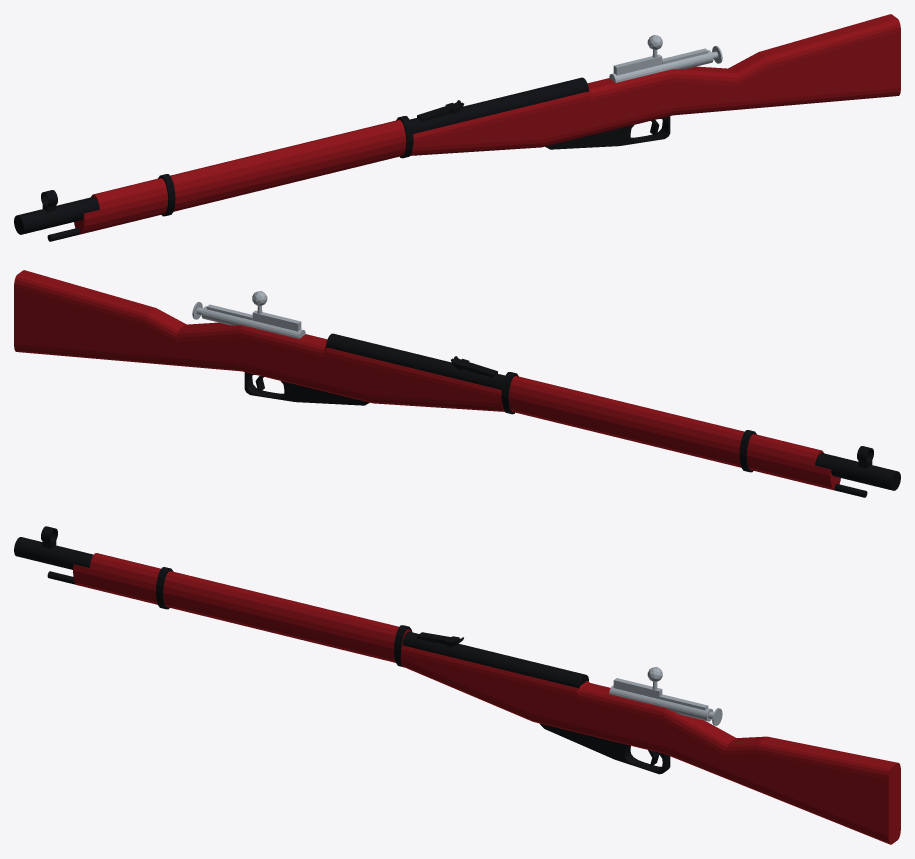
File: mosin-nagant0017.obj
The picture shows the model from 3 angles, top to bottom: view 1: azimuth 30°, elevation 25°; view 2: azimuth 150°, elevation 25°; view 3: azimuth 330°, elevation 25°; orthographic projection.
Visible parts, largest first — view 1: stock, barrel, triggerGuard, bolt, boltLocker; view 2: stock, barrel, triggerGuard, bolt, boltLocker; view 3: stock, barrel, triggerGuard, bolt.
Part boxes in pixels (x1,y1,x2,y2): stock: [74, 14, 900, 234]; barrel: [14, 77, 588, 234]; triggerGuard: [545, 116, 670, 149]; bolt: [609, 50, 713, 82]; boltLocker: [613, 54, 662, 75]; stock: [14, 270, 840, 490]; barrel: [326, 333, 900, 490]; triggerGuard: [244, 372, 369, 405]; bolt: [201, 306, 305, 338]; boltLocker: [252, 310, 301, 331]; stock: [73, 553, 900, 844]; barrel: [14, 537, 588, 688]; triggerGuard: [539, 723, 670, 774]; bolt: [609, 685, 713, 721].
Size of the model in its own units: 16.32 by 2.07 by 0.4228.
